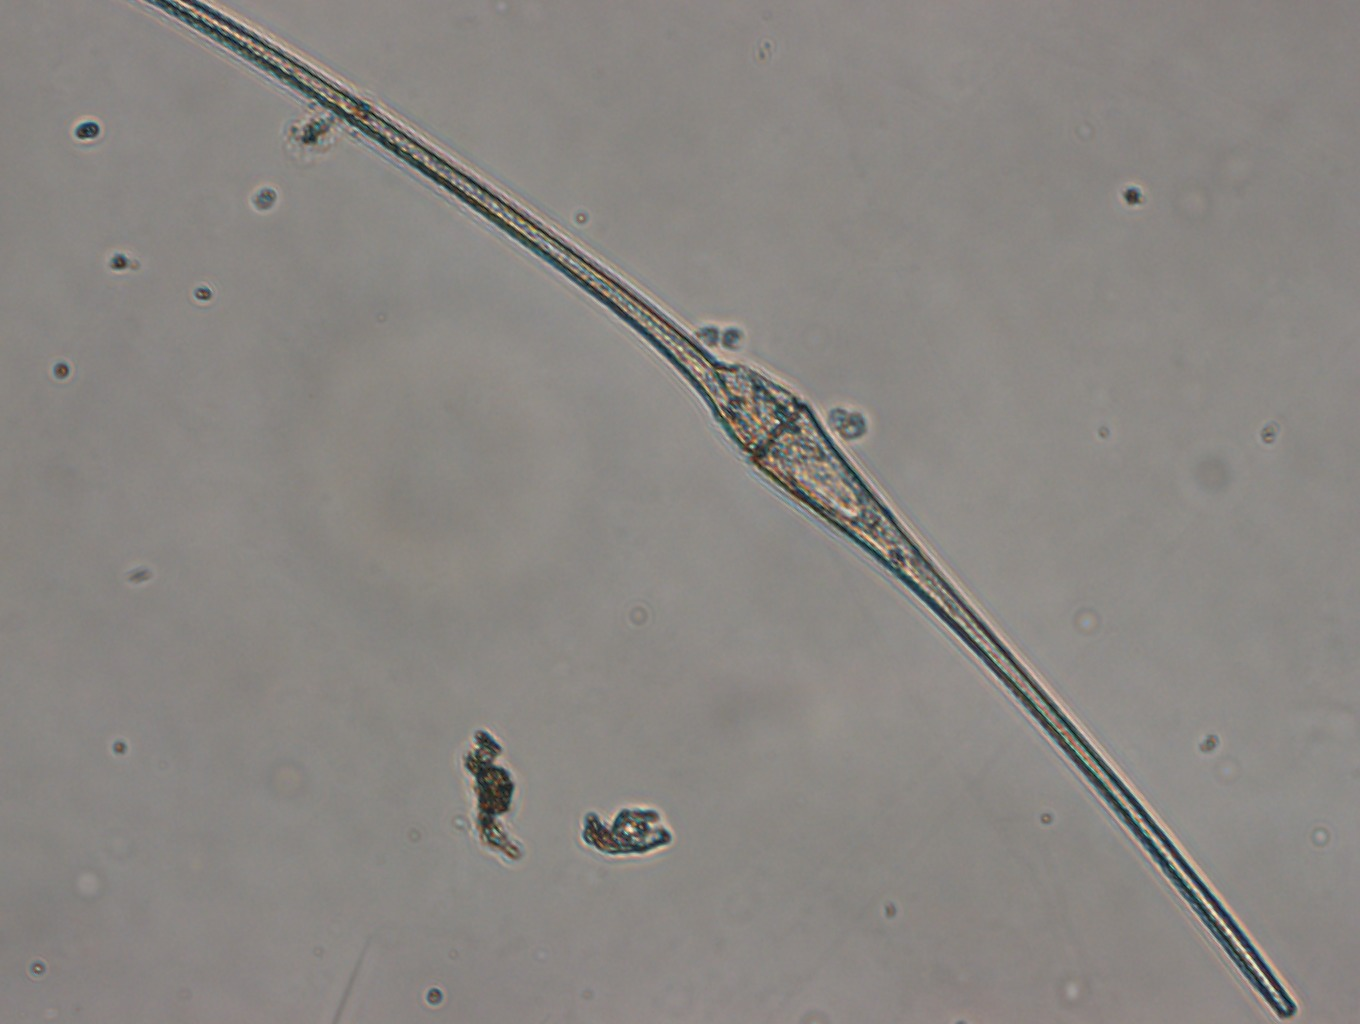ceratium fusus: (146, 1, 1293, 1024)
